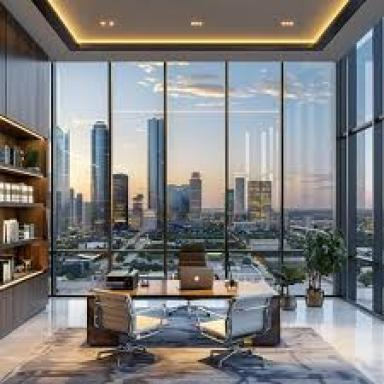glass_panel: (168, 63, 226, 277), (54, 63, 108, 282), (111, 63, 164, 275), (229, 63, 280, 278), (285, 63, 336, 273), (168, 116, 226, 277), (356, 124, 376, 306), (357, 22, 377, 128), (346, 53, 355, 133), (340, 54, 348, 136)
